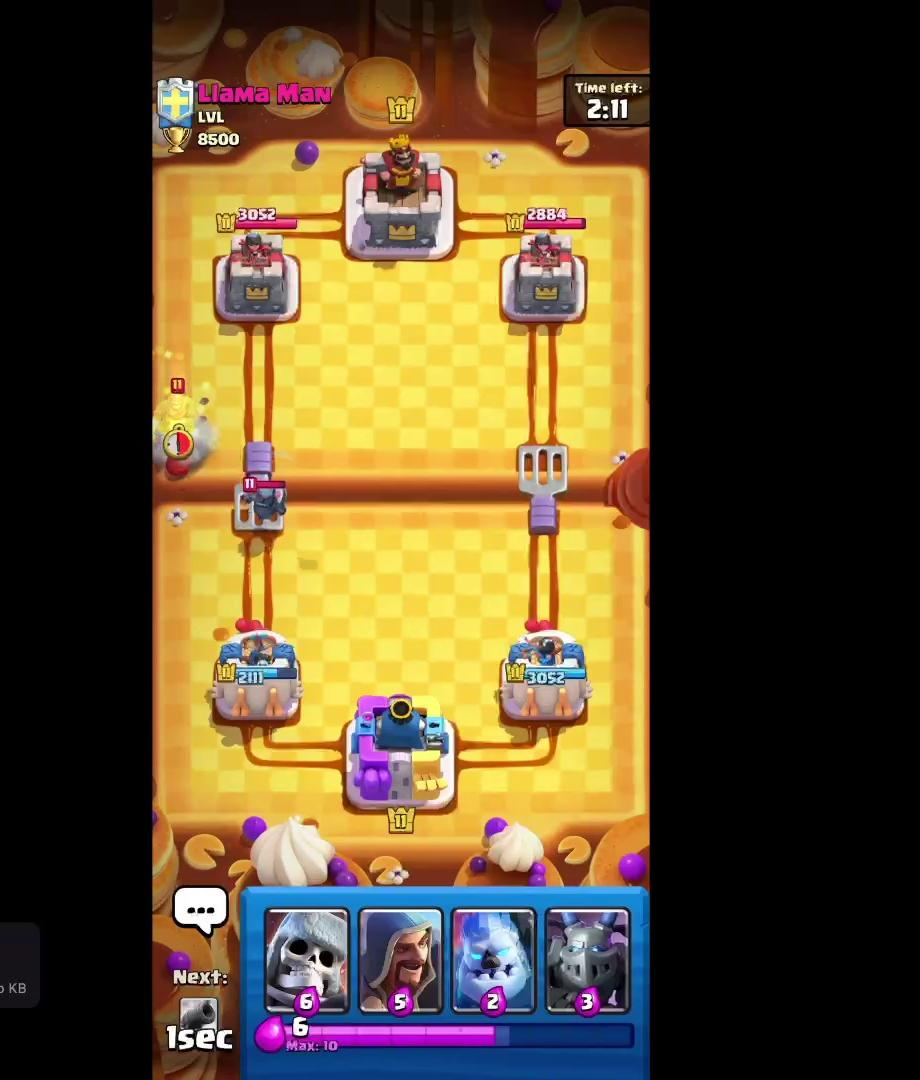Mini Pekka: (241, 474, 290, 525)
